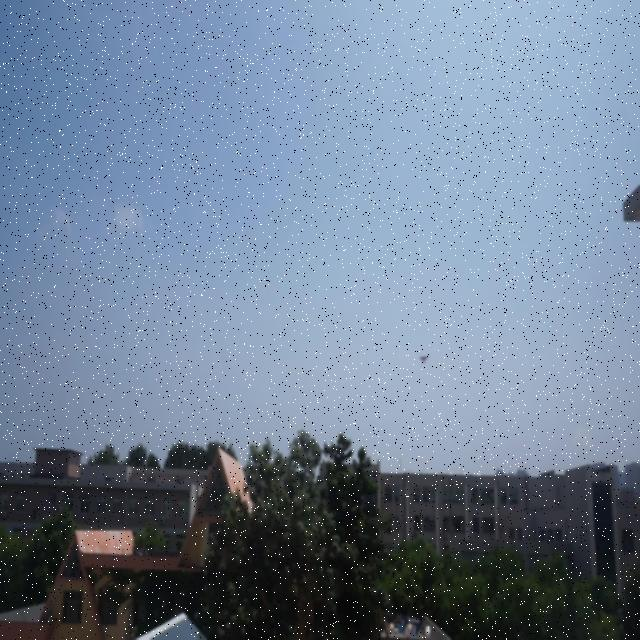UAV: (417, 355, 430, 364)
